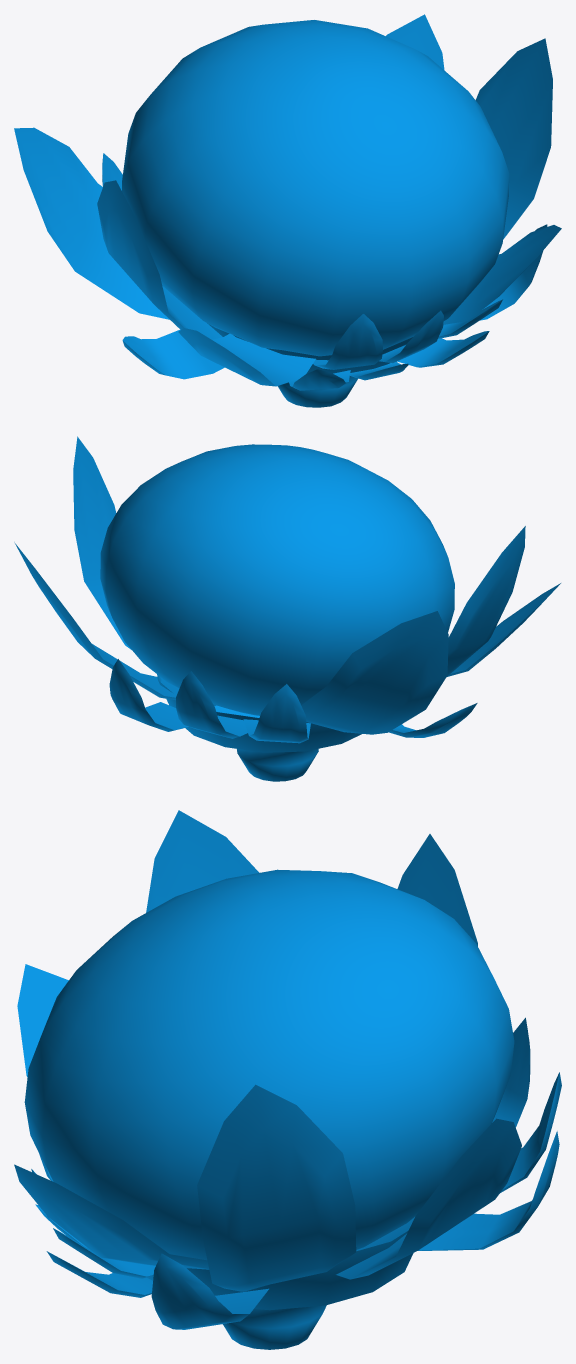
Rendered from BouncePad.fbx.
3 views of the same model, one above another, from view 1: azimuth 30°, elevation 25°; view 2: azimuth 150°, elevation 25°; view 3: azimuth 270°, elevation 25° (orthographic). The views are drawn at different scales.
Visible parts, largest first — view 1: bounceyPad, bigLeaf4, bigLeaf3, bigLeaf6, bigLeaf5, bigLeaf1, smallLeaf1, smallLeaf2, base, smallLeaf11, bigLeaf2, smallLeaf7 (+4 smaller); view 2: bounceyPad, bigLeaf4, base, bigLeaf3, bigLeaf6, smallLeaf5, smallLeaf9, bigLeaf2, smallLeaf4, bigLeaf5, smallLeaf1; view 3: bounceyPad, bigLeaf3, bigLeaf2, base, bigLeaf1, bigLeaf6, smallLeaf8, smallLeaf4, bigLeaf4, bigLeaf5, smallLeaf5, smallLeaf9 (+2 smaller).
Boxes of the visible parts, box(x1,y1,x2,y2) form: bounceyPad: box(122, 20, 509, 356); bigLeaf4: box(14, 127, 169, 319); bigLeaf3: box(475, 38, 552, 239); bigLeaf6: box(97, 180, 222, 339); bigLeaf5: box(178, 328, 315, 386); bigLeaf1: box(443, 225, 561, 324); smallLeaf1: box(122, 329, 224, 379); smallLeaf2: box(313, 314, 382, 369); base: box(207, 323, 412, 407); smallLeaf11: box(397, 331, 489, 367); bigLeaf2: box(386, 14, 444, 70); smallLeaf7: box(379, 310, 443, 363); bounceyPad: box(100, 444, 454, 715); bigLeaf4: box(301, 611, 448, 734); base: box(157, 674, 361, 781); bigLeaf3: box(73, 436, 131, 649); bigLeaf6: box(447, 526, 525, 676); smallLeaf5: box(243, 684, 310, 743); smallLeaf9: box(176, 671, 247, 738); bigLeaf2: box(14, 542, 215, 706); smallLeaf4: box(109, 659, 188, 731); bigLeaf5: box(447, 583, 560, 676); smallLeaf1: box(389, 703, 477, 737); bounceyPad: box(24, 869, 514, 1268); bigLeaf3: box(197, 1084, 356, 1291); bigLeaf2: box(336, 1118, 521, 1279); base: box(147, 1231, 413, 1349); bigLeaf1: box(14, 1164, 209, 1269); bigLeaf6: box(146, 810, 259, 912); smallLeaf8: box(151, 1253, 268, 1329); smallLeaf4: box(418, 1131, 559, 1250); bigLeaf4: box(397, 834, 477, 946); bigLeaf5: box(17, 964, 68, 1077); smallLeaf5: box(492, 1017, 530, 1127); smallLeaf9: box(500, 1072, 561, 1192).
Bounding box in the file's own units: 2.72 × 1.96 × 2.2.
